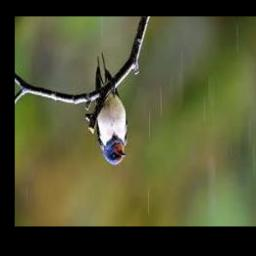Swallow: (95, 53, 128, 165)
